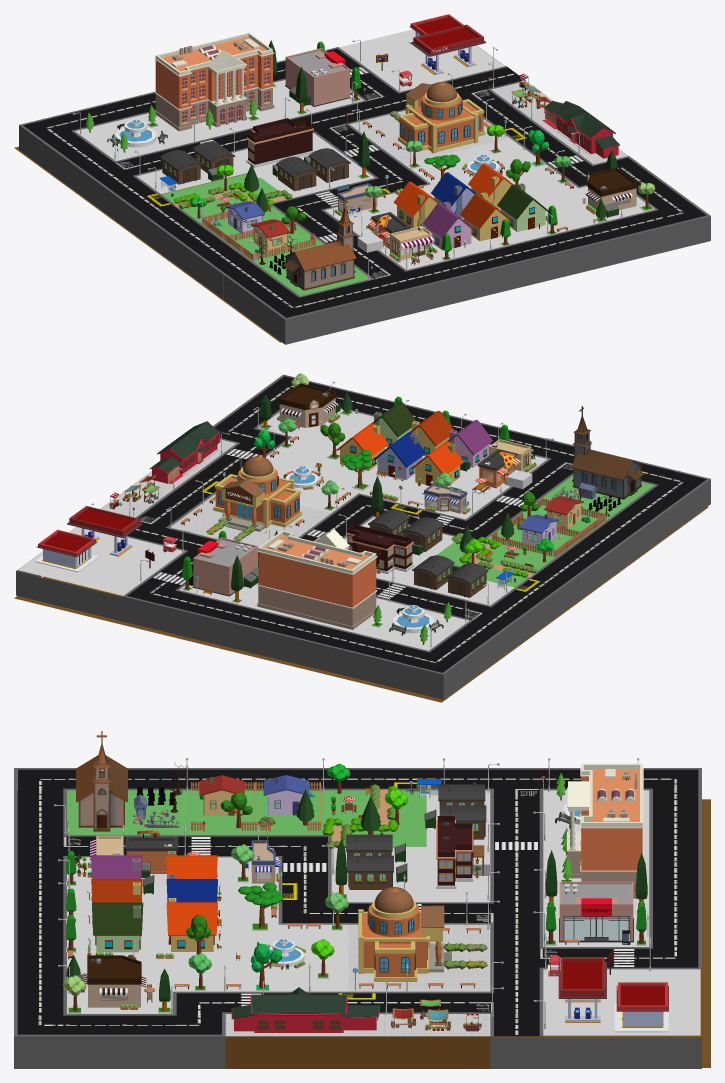
The model's file is MAPfixed (1)2.fbx.
3 renders of one model, top to bottom at view 1: azimuth 30°, elevation 25°; view 2: azimuth 150°, elevation 25°; view 3: azimuth 270°, elevation 25°, orthographic. The views are drawn at different scales.
Parts seen in each view (by area): view 1: Plane.089_Marcapiede_0; view 2: Plane.089_Marcapiede_0; view 3: Plane.089_Marcapiede_0.
Boxes of the visible parts, <box> form: Plane.089_Marcapiede_0: <box>14,14,710,344</box>; Plane.089_Marcapiede_0: <box>14,373,710,702</box>; Plane.089_Marcapiede_0: <box>14,731,710,1068</box>.
Bounding box in the file's own units: 5276 × 1172 × 5768.
